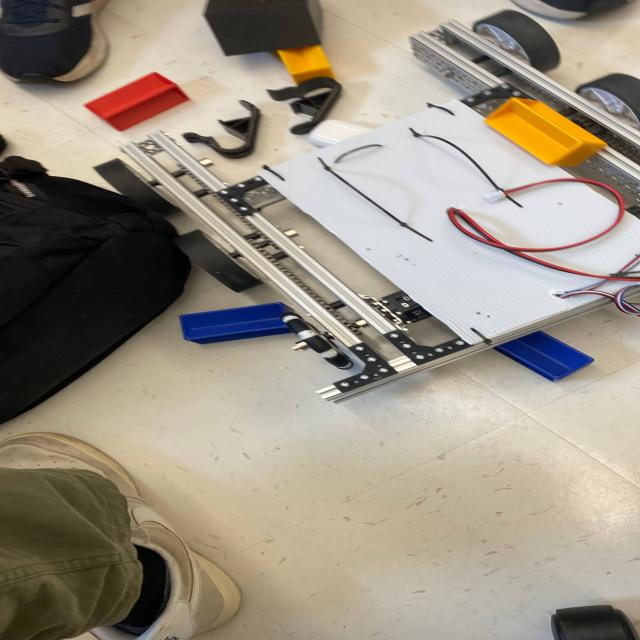blue-specimen: (495, 331, 593, 381), (179, 303, 292, 344)
red-specimen: (84, 72, 189, 131)
yellow-specimen: (485, 99, 606, 166), (279, 47, 330, 77)
